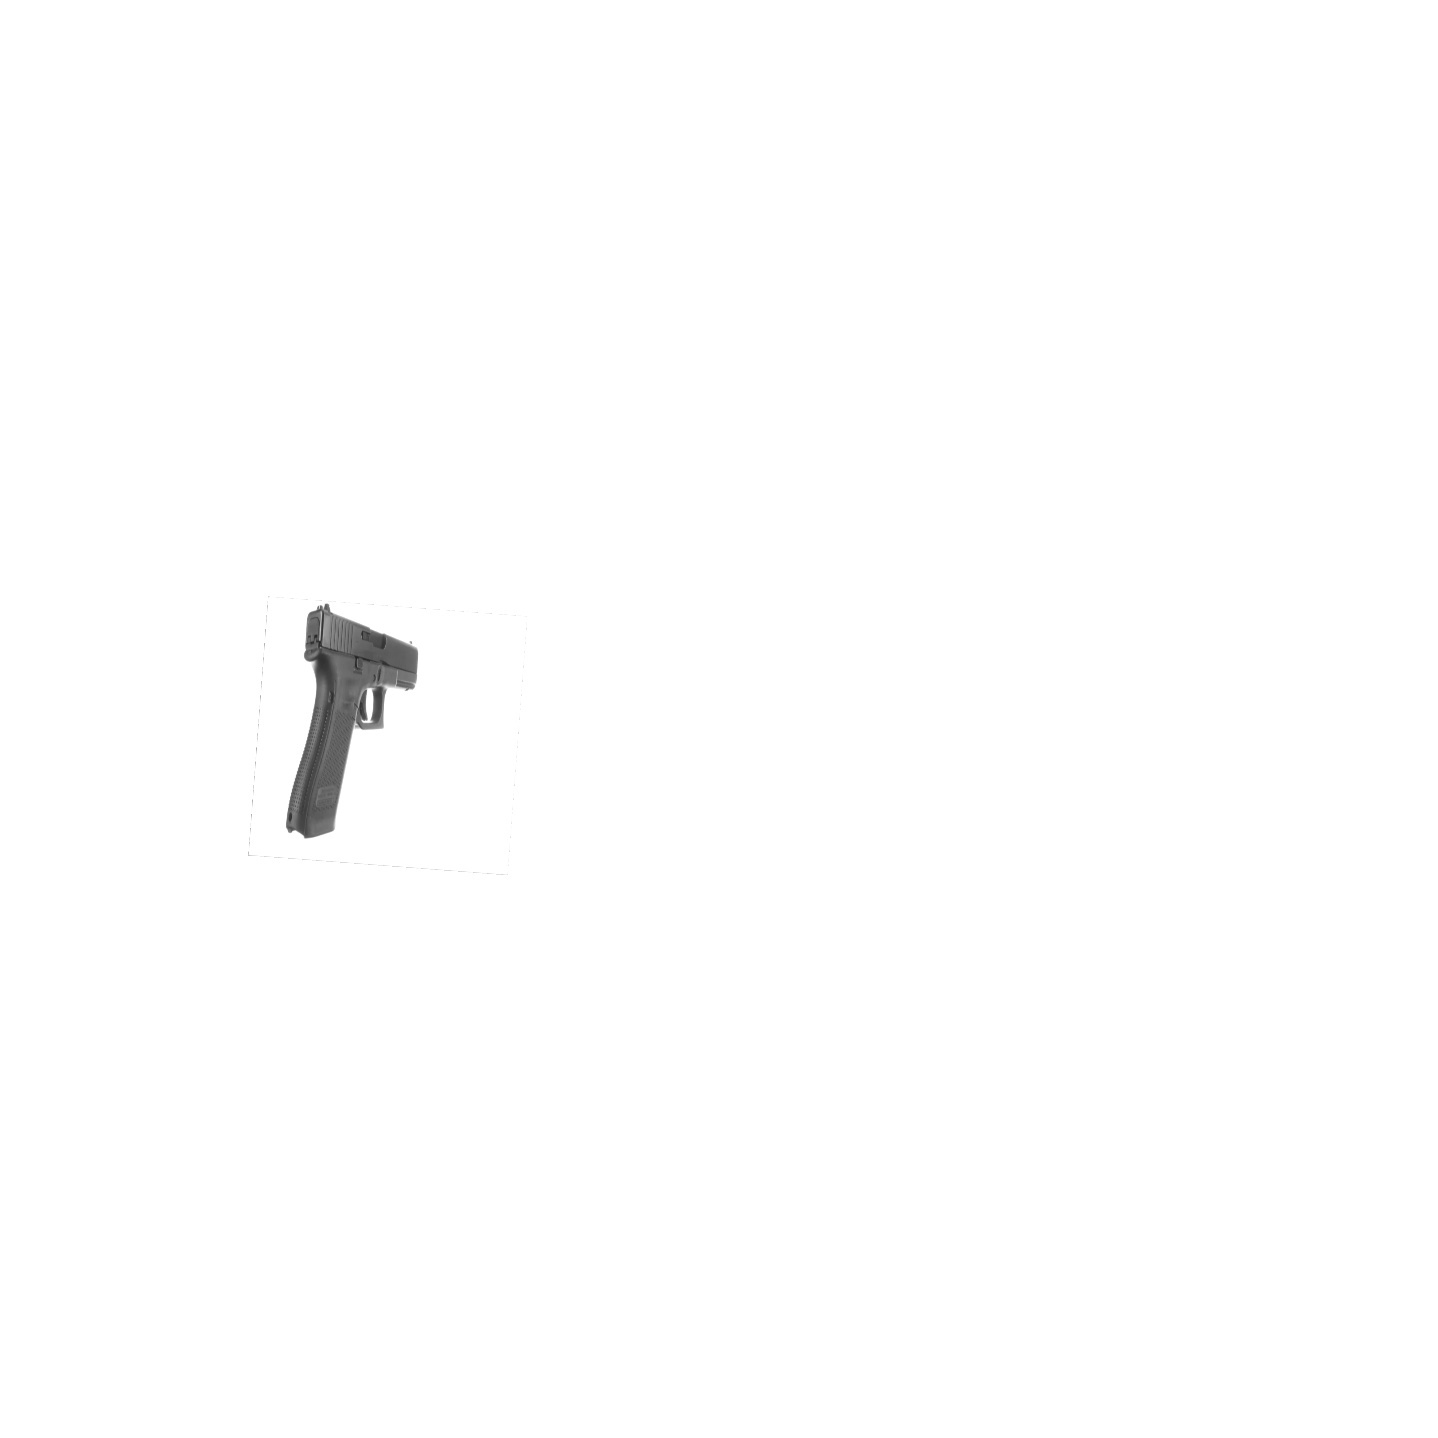gun: (286, 603, 419, 839)
